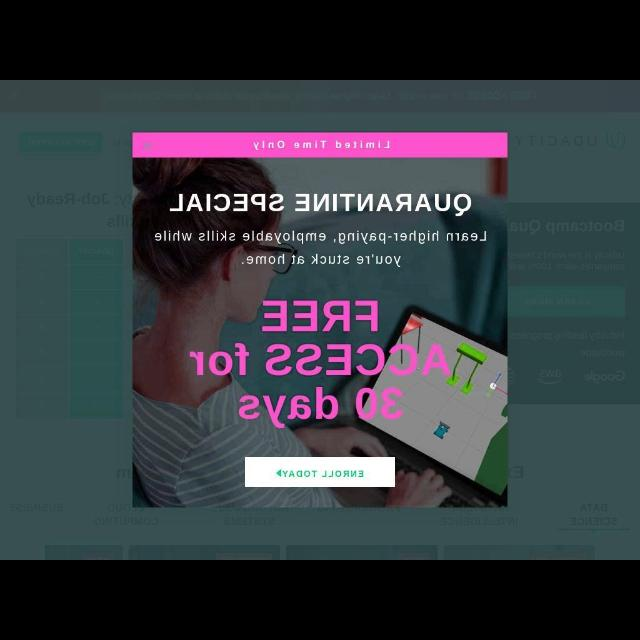icon: (142, 140, 152, 154), (276, 468, 282, 478)
iframe: (132, 130, 508, 506), (2, 82, 636, 112)
image: (12, 238, 124, 420), (512, 126, 628, 154), (580, 369, 628, 387), (534, 369, 566, 387)
text: (190, 298, 448, 426), (152, 232, 488, 264), (170, 192, 474, 215), (107, 88, 543, 102), (20, 192, 130, 230), (509, 330, 629, 358), (508, 249, 626, 273), (510, 219, 626, 239), (436, 508, 526, 530), (252, 140, 394, 152), (210, 506, 288, 526), (568, 500, 618, 530), (314, 504, 400, 520), (90, 504, 158, 524), (24, 136, 94, 152), (5, 500, 65, 516), (524, 294, 592, 308), (284, 468, 366, 478)
textbutton: (245, 454, 397, 492), (510, 286, 626, 320), (18, 134, 102, 154)
